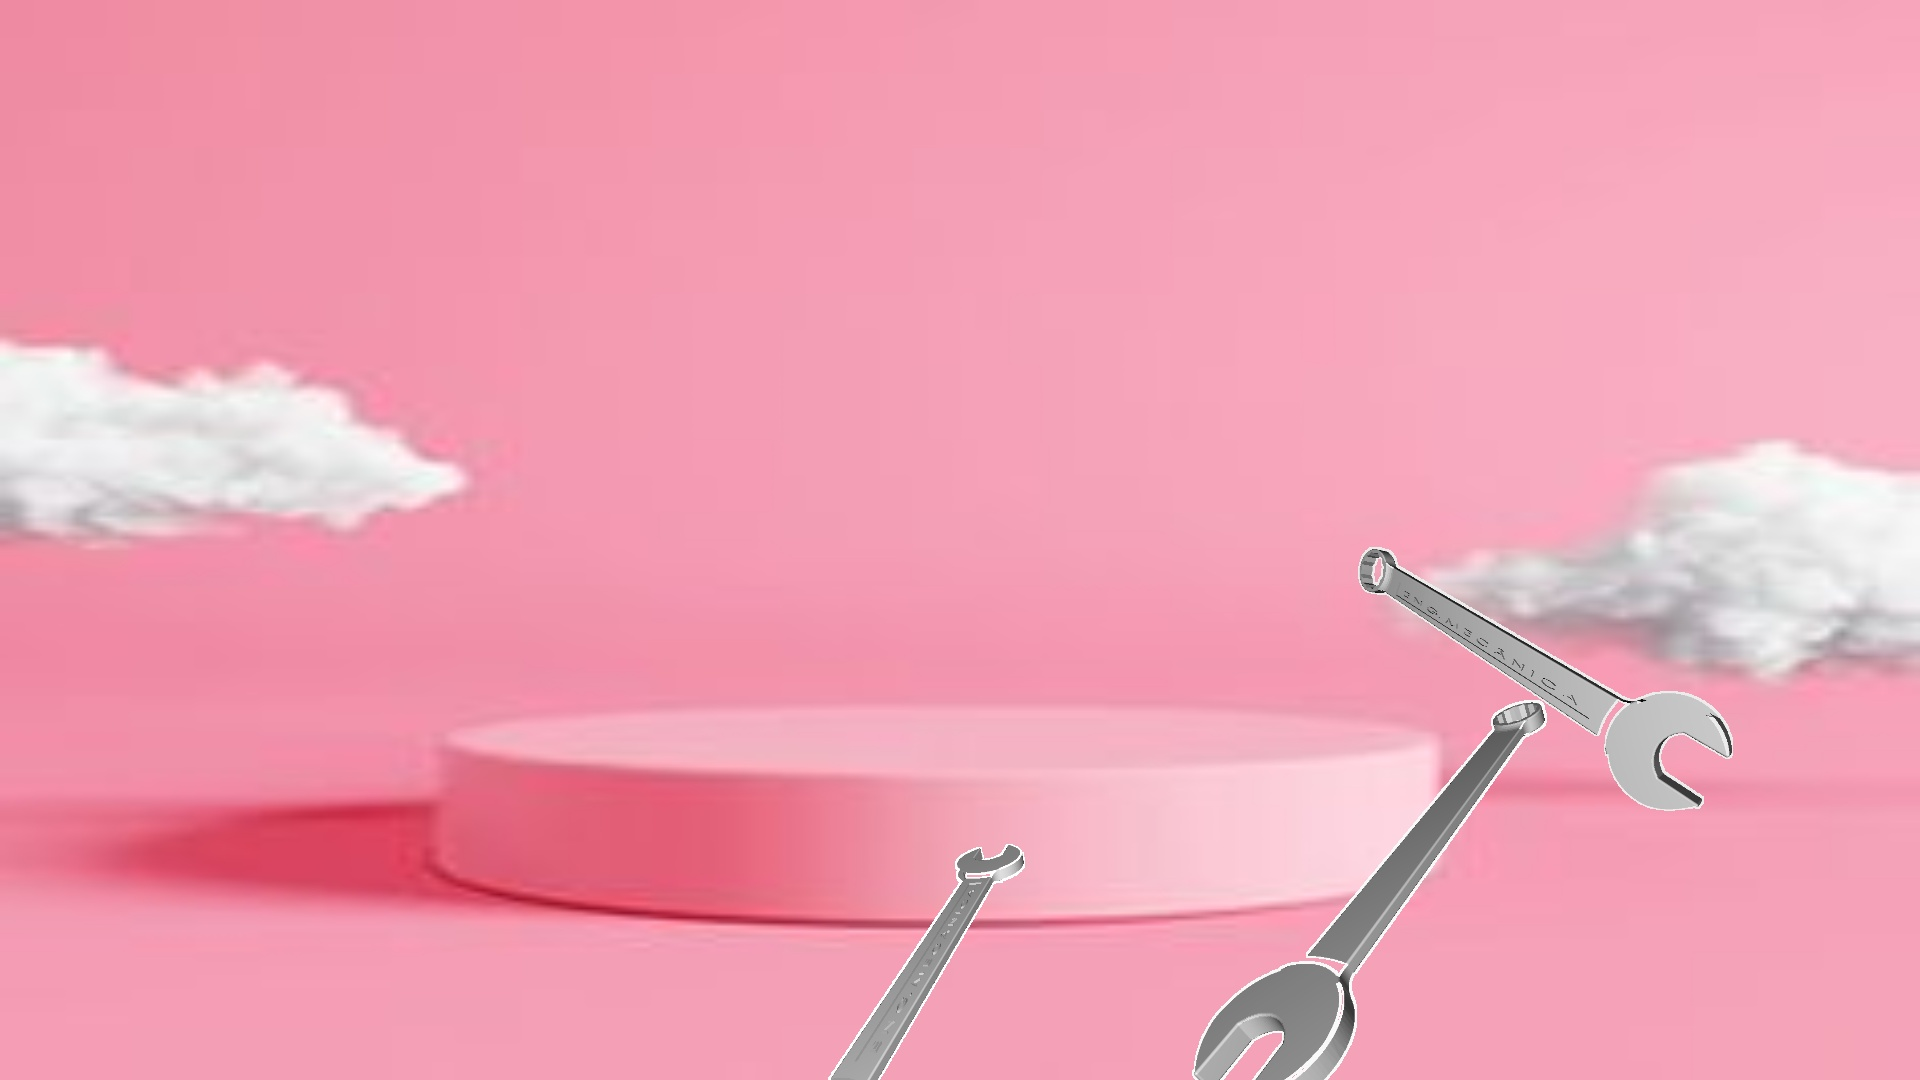Mixed Key: (1192, 700, 1545, 1079), (1358, 547, 1731, 810), (828, 844, 1025, 1079)
